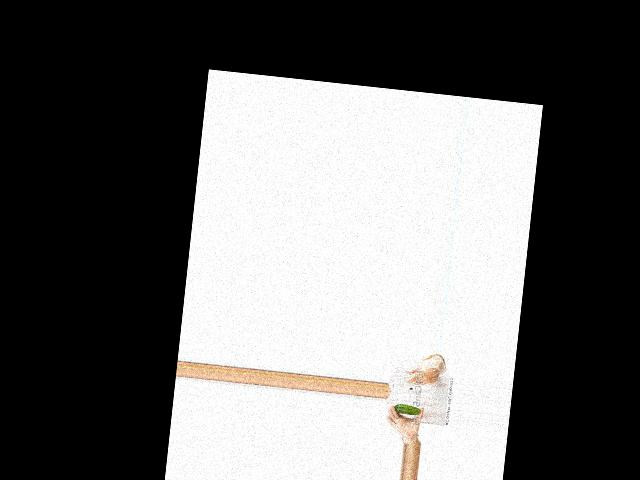cucumber: (393, 404, 421, 416)
